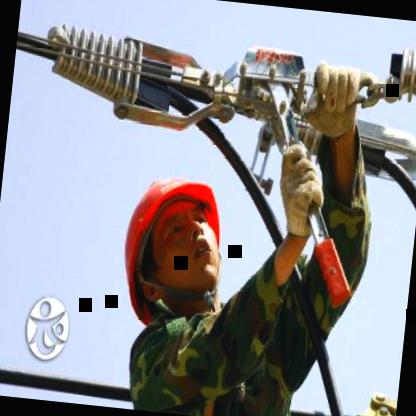helmet: (112, 150, 244, 324)
